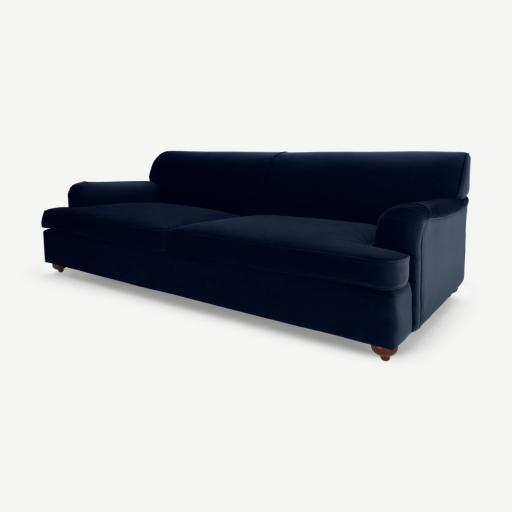back_cushion: (149, 151, 469, 224)
base: (44, 232, 411, 348)
left_arm: (375, 198, 467, 330)
legs: (372, 345, 397, 361), (52, 263, 65, 272)
right_arm: (68, 181, 157, 207)
seat_cushion: (43, 202, 405, 280)
two-seater: (0, 0, 511, 512)
